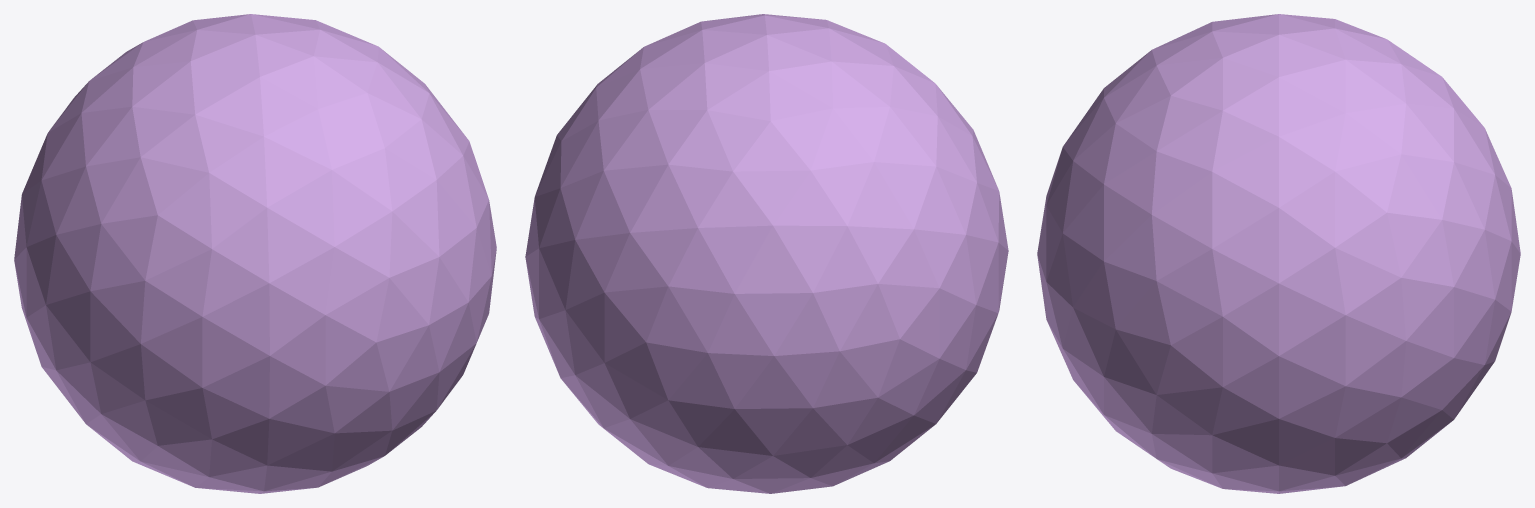
Rendered from lithium.fbx.
3 views of the same model, side by side, from view 1: azimuth 30°, elevation 25°; view 2: azimuth 150°, elevation 25°; view 3: azimuth 270°, elevation 25° (orthographic).
Visible parts, largest first — view 1: Shape_IndexedFaceSet; view 2: Shape_IndexedFaceSet; view 3: Shape_IndexedFaceSet.
Part boxes in pixels (left/top/right/bottom): Shape_IndexedFaceSet: left=14, top=14, right=496, bottom=493; Shape_IndexedFaceSet: left=525, top=14, right=1008, bottom=493; Shape_IndexedFaceSet: left=1037, top=14, right=1520, bottom=493.
Size of the model in its own units: 832 by 832 by 832.
